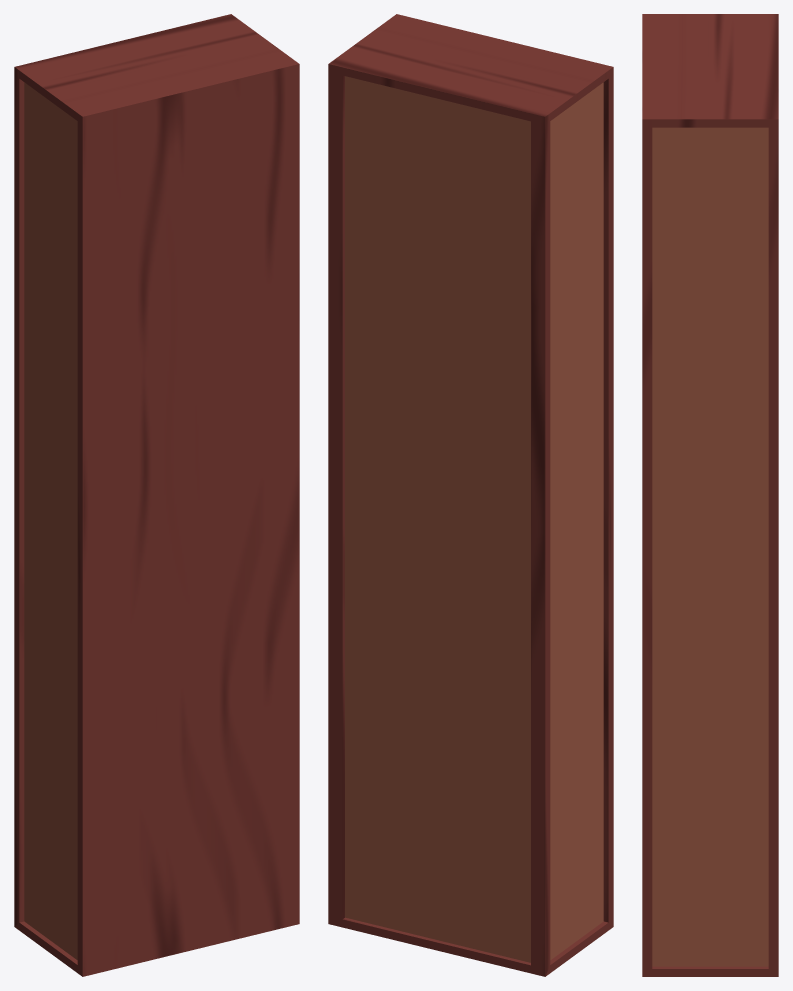
File: kolon1.fbx
The picture shows the model from 3 angles, left to right: view 1: azimuth 30°, elevation 25°; view 2: azimuth 150°, elevation 25°; view 3: azimuth 270°, elevation 25°; orthographic projection.
Parts seen in each view (by area): view 1: duvar2; view 2: duvar2; view 3: duvar2.
Boxes of the visible parts, bbox=[...] form: duvar2: bbox=[14, 14, 299, 976]; duvar2: bbox=[328, 14, 613, 976]; duvar2: bbox=[642, 14, 778, 976].
Bounding box in the file's own units: 1106 × 4192 × 603.
